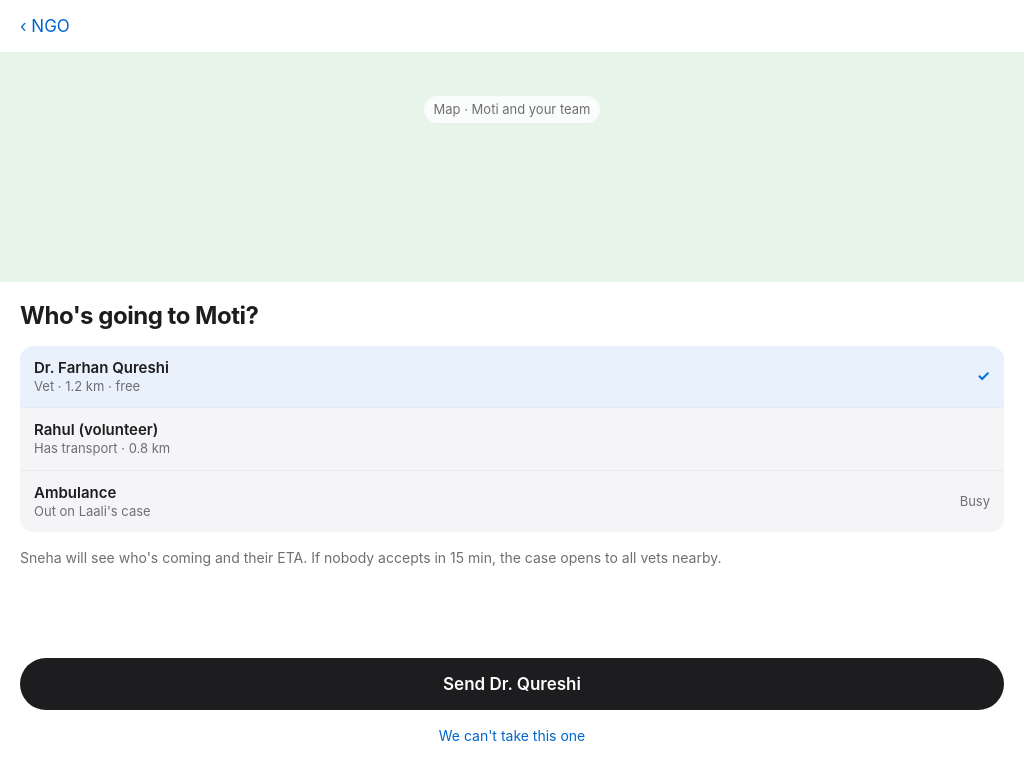
Scenario: N3 Send someone › sends Dr. Qureshi
The image size is (1024, 768).
Expected: the heading "Who's going to Moti?" is shown, [20, 301, 258, 330]
Expected: the text "Busy" is shown, [960, 494, 990, 509]
Step 1. Click the button "Send Dr. Qureshi" → (512, 684), box [20, 658, 1004, 710]
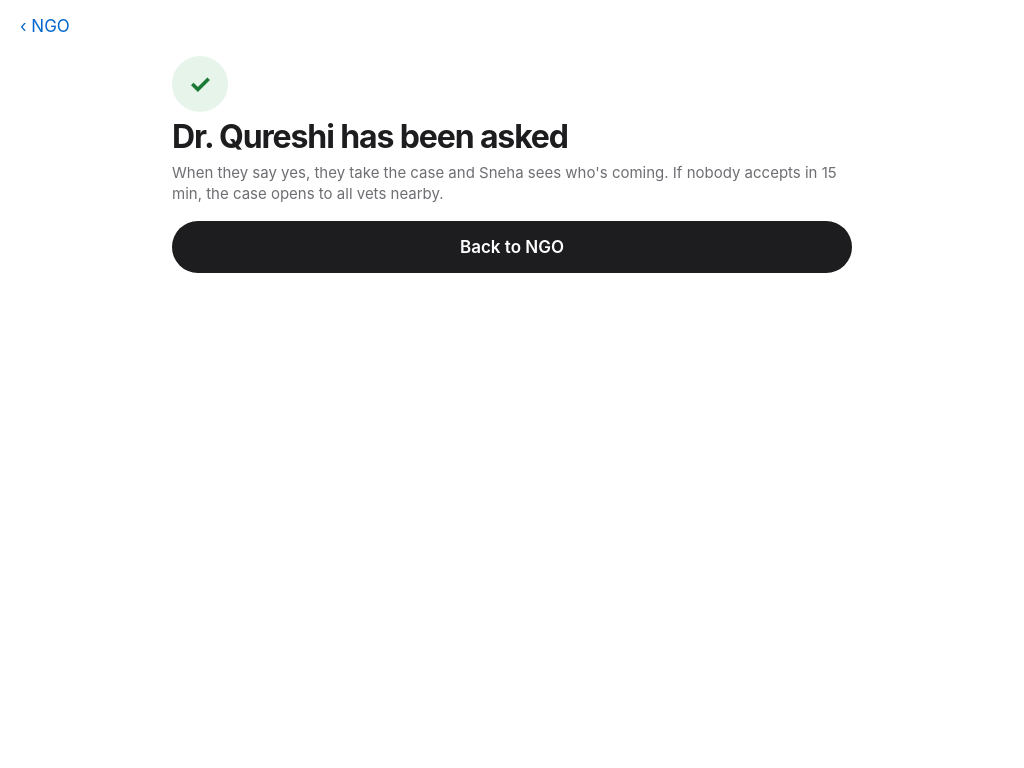
Expected: the text "Dr. Qureshi has been asked" is shown, [172, 117, 568, 156]
